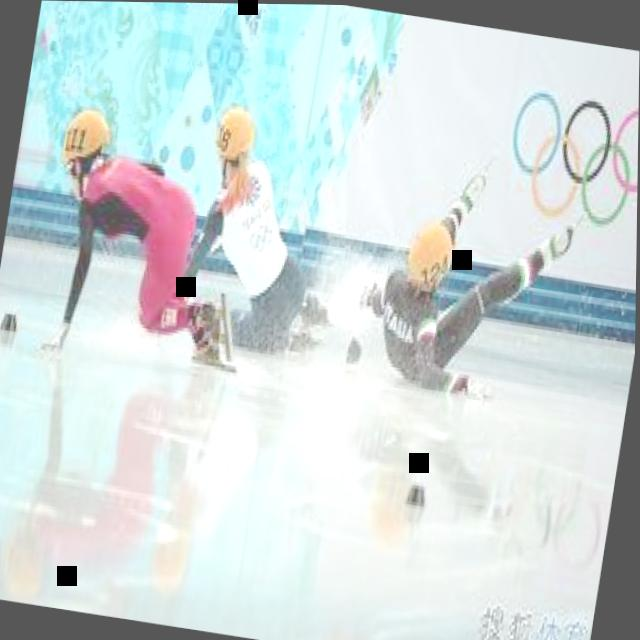Fall-Detected: (23, 76, 271, 382)
